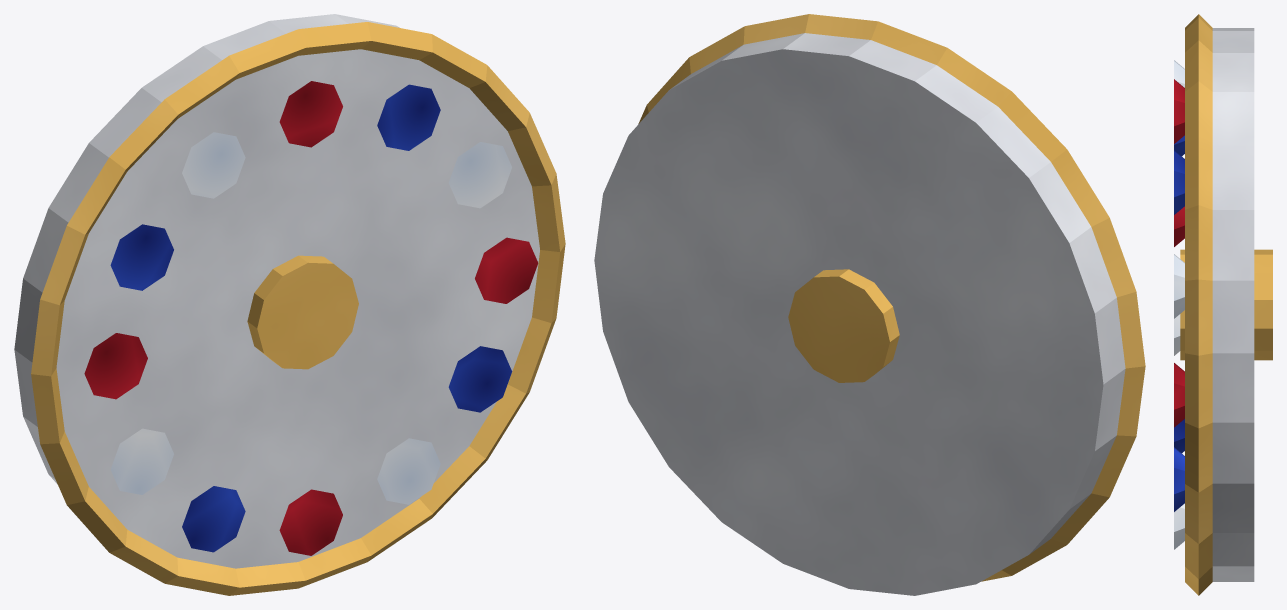
Rendered from mdl_legado_rotor.fbx.
3 renders of one model, left to right at view 1: azimuth 30°, elevation 25°; view 2: azimuth 150°, elevation 25°; view 3: azimuth 270°, elevation 25°, orthographic. The views are drawn at different scales.
Parts seen in each view (by area): view 1: metal_plata, metal_oro_pulido, gema_diamante, gema_rubi, gema_zafiro; view 2: metal_plata, metal_oro_pulido; view 3: metal_plata, metal_oro_pulido, gema_zafiro, gema_rubi, gema_diamante.
Part boxes in pixels (x1,y1,x2,y2): metal_plata: (14, 14, 539, 568); metal_oro_pulido: (31, 22, 565, 595); gema_diamante: (110, 132, 511, 504); gema_rubi: (84, 81, 538, 555); gema_zafiro: (110, 84, 512, 552); metal_plata: (594, 33, 1125, 595); metal_oro_pulido: (638, 14, 1145, 581); metal_plata: (1212, 28, 1254, 581); metal_oro_pulido: (1180, 14, 1272, 595); gema_zafiro: (1174, 135, 1184, 511); gema_rubi: (1174, 79, 1184, 427); gema_diamante: (1174, 60, 1184, 549).
Size of the model in its own units: 126 by 126 by 21.34.
